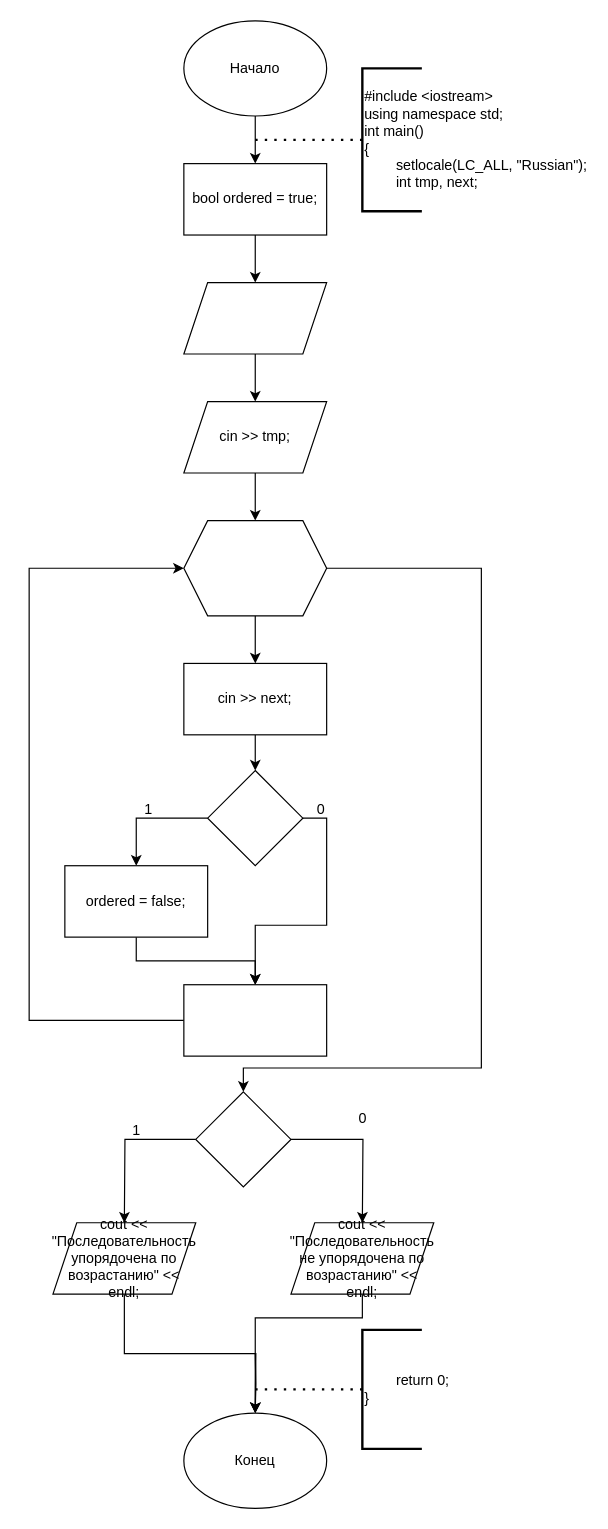
Image size: 608x1529. Some labels were removed from this diagram. The shapes that lost their labels are listed below. From the top down, each one's centre as x and y in pixels, then its label:
the point at 255,317: cout << "Введите число: \n";
the point at 255,567: while (tmp != 0)
the point at 254,817: if (next != 0 && tmp > next)
the point at 255,1020: tmp = next
the point at 243,1139: if (ordered)
